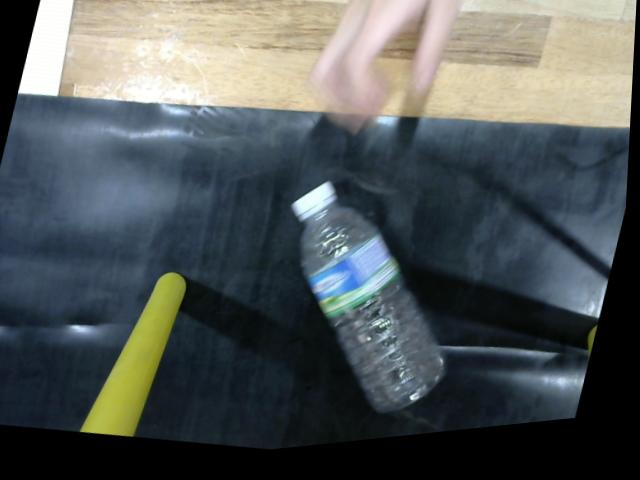bottle: (283, 179, 459, 428)
